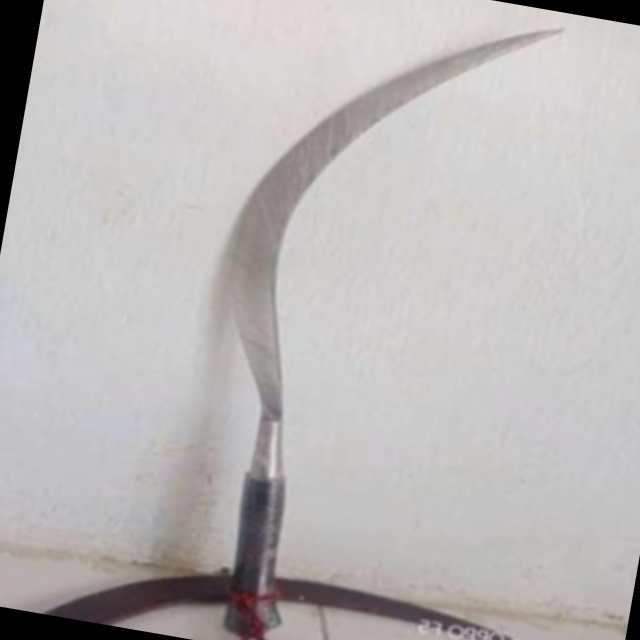Sharp-Object: (157, 0, 568, 640)
